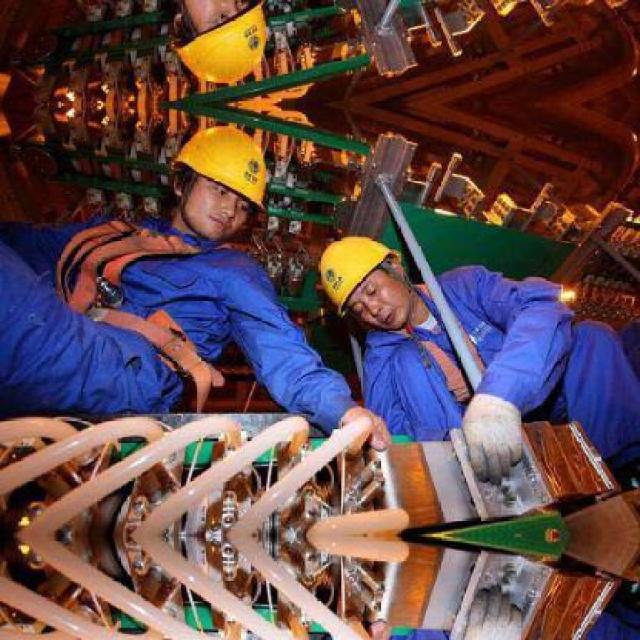helmet: (156, 115, 278, 248), (308, 225, 422, 326), (155, 0, 278, 92)
